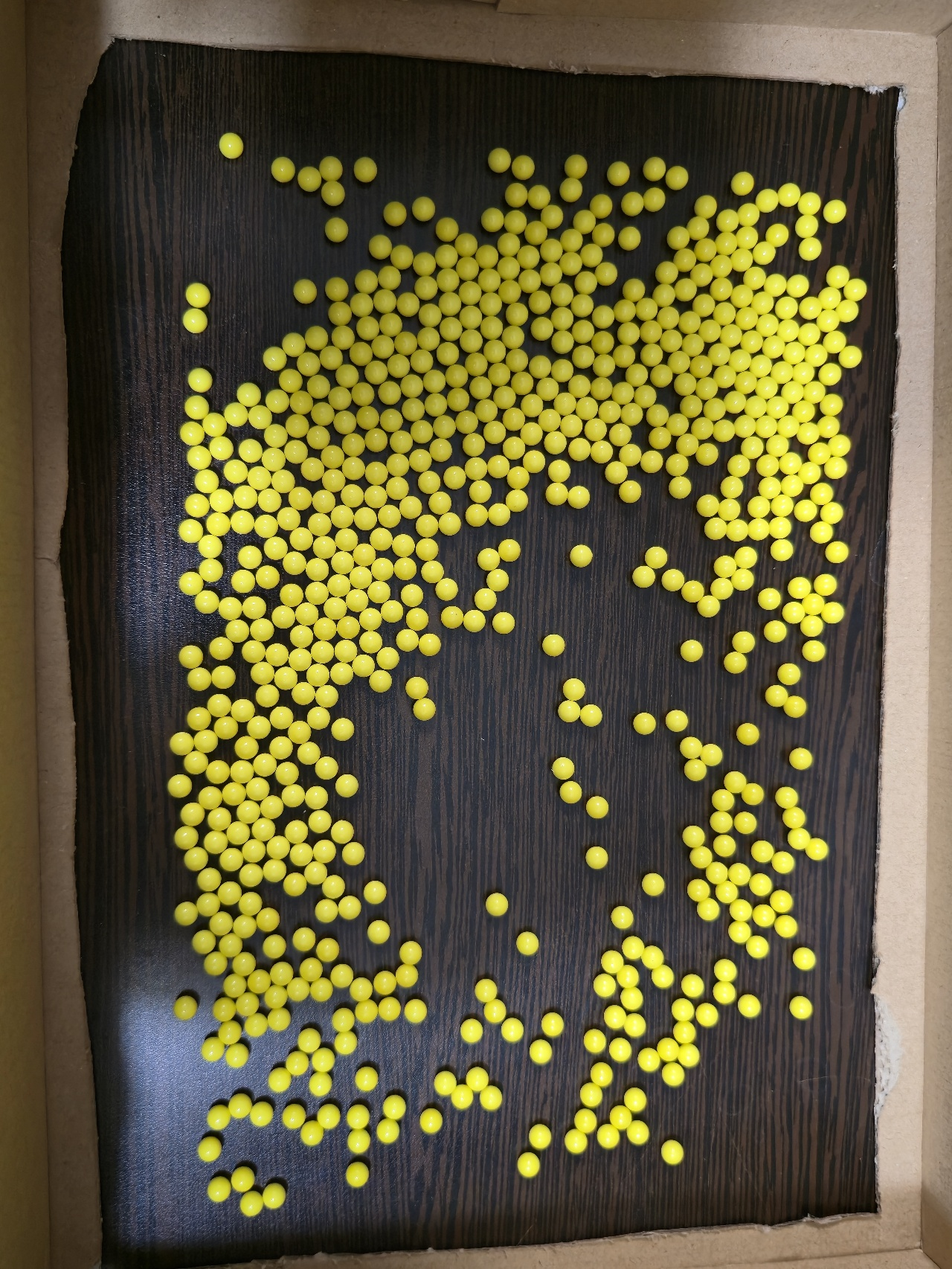yellow_bead: (190, 499, 205, 512), (184, 577, 198, 590), (243, 551, 257, 564), (185, 524, 198, 538), (190, 401, 204, 414), (191, 289, 205, 302), (203, 873, 216, 886), (225, 853, 238, 866), (232, 826, 245, 839), (310, 791, 323, 804), (237, 575, 250, 588), (204, 540, 217, 553), (236, 515, 249, 528), (263, 494, 276, 507), (200, 475, 213, 488), (229, 465, 242, 478), (267, 453, 280, 466), (523, 1157, 535, 1171), (534, 1130, 546, 1144), (485, 1091, 497, 1105), (547, 1018, 559, 1032), (223, 887, 237, 899), (199, 735, 213, 747), (666, 1146, 678, 1159), (602, 1130, 614, 1143), (388, 1101, 400, 1114), (629, 1093, 641, 1106), (535, 1045, 547, 1058), (303, 1034, 315, 1047), (506, 1024, 518, 1037), (628, 1019, 640, 1032), (338, 1014, 350, 1027), (410, 1005, 422, 1018), (795, 1001, 807, 1014), (743, 1000, 756, 1012), (599, 979, 611, 992), (336, 969, 348, 982), (751, 941, 764, 953), (268, 940, 280, 953), (373, 925, 385, 938), (215, 917, 227, 930), (190, 852, 202, 865), (295, 849, 308, 861), (347, 847, 359, 860), (248, 844, 260, 857), (272, 841, 285, 853), (180, 832, 193, 844), (251, 783, 264, 795), (275, 742, 288, 754), (213, 699, 226, 711), (316, 646, 329, 658), (295, 631, 308, 643), (248, 602, 261, 614), (200, 596, 213, 608), (295, 533, 308, 545), (260, 520, 272, 533), (215, 495, 228, 507), (239, 491, 251, 504), (253, 472, 266, 484), (306, 463, 319, 475), (193, 452, 206, 464), (215, 442, 228, 454), (771, 440, 784, 452), (269, 430, 282, 442), (186, 427, 198, 440), (230, 408, 242, 421), (762, 194, 774, 207), (632, 1126, 643, 1140), (440, 1076, 451, 1090), (472, 1073, 483, 1087), (615, 1043, 626, 1057), (466, 1024, 477, 1038), (570, 1135, 582, 1147), (251, 1020, 263, 1032), (677, 1003, 689, 1015), (687, 980, 699, 992), (657, 971, 669, 983), (799, 953, 811, 965), (225, 939, 237, 951), (245, 897, 257, 909), (327, 881, 339, 893), (310, 867, 322, 879), (318, 845, 330, 857), (291, 826, 303, 838), (314, 815, 326, 827), (187, 808, 199, 820), (236, 765, 248, 777), (259, 759, 271, 771), (312, 712, 324, 724), (271, 649, 283, 661), (340, 645, 352, 657), (256, 624, 268, 636), (261, 571, 273, 583), (312, 564, 324, 576), (776, 544, 788, 556), (314, 518, 326, 530), (212, 518, 224, 530), (318, 495, 330, 507), (294, 492, 306, 504), (277, 475, 289, 487), (245, 445, 257, 457), (254, 411, 266, 423), (271, 395, 283, 407), (303, 358, 315, 370), (844, 351, 856, 363), (288, 339, 300, 351), (829, 336, 841, 348), (804, 243, 816, 255), (801, 220, 813, 232), (783, 189, 795, 201), (610, 1011, 621, 1024), (481, 984, 492, 997), (719, 965, 732, 976), (617, 911, 628, 924), (268, 865, 281, 876), (777, 857, 790, 868), (204, 791, 215, 804), (176, 737, 187, 750), (261, 690, 274, 701), (335, 668, 348, 679), (224, 603, 237, 614), (205, 565, 218, 576), (268, 353, 281, 364), (780, 302, 793, 313), (829, 205, 840, 218), (173, 780, 187, 790), (269, 544, 283, 554), (457, 1092, 468, 1104), (585, 1090, 597, 1101), (668, 1069, 679, 1081), (317, 1056, 329, 1067), (702, 1009, 713, 1021), (356, 983, 367, 995), (229, 980, 240, 992), (276, 968, 288, 979), (607, 956, 618, 968), (647, 951, 658, 963), (405, 947, 416, 959), (628, 942, 639, 954), (522, 937, 533, 949), (199, 936, 210, 948), (344, 902, 356, 913), (755, 879, 767, 890), (648, 878, 659, 890), (245, 870, 257, 881), (591, 852, 602, 864), (210, 837, 222, 848), (336, 826, 347, 838), (781, 792, 793, 803), (341, 780, 353, 791), (281, 768, 292, 780), (558, 762, 569, 774), (321, 762, 332, 774), (303, 748, 315, 759), (686, 742, 697, 754), (337, 724, 349, 735), (237, 704, 249, 715), (375, 675, 387, 686), (312, 669, 324, 680), (257, 667, 269, 678), (358, 660, 370, 671), (294, 654, 306, 665), (382, 652, 393, 664), (788, 607, 800, 618), (329, 603, 341, 614), (764, 594, 776, 605), (794, 582, 806, 593), (333, 579, 345, 590), (667, 574, 679, 585), (376, 563, 388, 574), (289, 557, 300, 569), (483, 553, 495, 564), (740, 552, 752, 563), (576, 550, 587, 562), (318, 542, 330, 553), (341, 534, 353, 545), (816, 527, 828, 538), (421, 520, 433, 531), (359, 513, 371, 524), (283, 513, 295, 524), (336, 511, 348, 522), (826, 507, 838, 518), (800, 505, 812, 516), (753, 501, 765, 512), (435, 497, 446, 509), (370, 491, 382, 502), (347, 489, 358, 501), (391, 482, 403, 493), (328, 475, 340, 486), (370, 467, 382, 478), (347, 463, 359, 474), (762, 460, 774, 471), (392, 459, 404, 470), (290, 446, 302, 457), (834, 440, 846, 451), (469, 439, 480, 451), (550, 437, 561, 449), (312, 431, 324, 442), (526, 428, 537, 440), (730, 396, 741, 408), (824, 369, 836, 380), (823, 315, 834, 327), (842, 305, 853, 317), (805, 302, 816, 314), (849, 284, 861, 295), (832, 271, 844, 282), (803, 198, 815, 209), (293, 983, 303, 996), (370, 886, 380, 899), (287, 790, 300, 800), (253, 722, 266, 732), (217, 671, 230, 681), (245, 388, 255, 401), (197, 373, 207, 386), (274, 1076, 285, 1087), (643, 1056, 654, 1067), (274, 1015, 285, 1026), (306, 963, 317, 974), (782, 922, 793, 933), (239, 922, 250, 933), (703, 905, 714, 916), (321, 905, 332, 916), (202, 899, 213, 910), (492, 899, 503, 910), (757, 846, 768, 857), (719, 840, 730, 851), (565, 786, 576, 797), (639, 718, 650, 729), (321, 690, 332, 701), (739, 637, 750, 648), (402, 634, 413, 645), (771, 626, 782, 637), (498, 617, 509, 628), (469, 615, 480, 626), (738, 574, 749, 585), (638, 571, 649, 582), (427, 566, 438, 577), (832, 547, 843, 558), (710, 523, 721, 534), (384, 510, 395, 521), (405, 501, 416, 512), (777, 500, 788, 511), (475, 486, 486, 497), (765, 482, 776, 493), (675, 482, 686, 493), (611, 467, 622, 478), (471, 463, 482, 474), (415, 454, 426, 465), (625, 449, 636, 460), (597, 446, 608, 457), (747, 442, 758, 453), (615, 429, 626, 440), (803, 428, 814, 439), (798, 406, 809, 417), (431, 399, 442, 410), (787, 387, 798, 398), (574, 380, 585, 391), (798, 367, 809, 378), (777, 367, 788, 378), (417, 355, 428, 366), (326, 352, 337, 363), (763, 319, 774, 330), (466, 311, 477, 322), (323, 1112, 333, 1124), (362, 1073, 372, 1085), (232, 1050, 242, 1062), (238, 958, 250, 968), (298, 933, 310, 943), (734, 928, 746, 938), (721, 888, 733, 898), (794, 834, 806, 844), (688, 831, 700, 841), (266, 801, 278, 811), (795, 754, 807, 764), (294, 726, 306, 736), (184, 651, 196, 661), (808, 646, 820, 656), (686, 646, 698, 656), (248, 646, 260, 656), (231, 625, 243, 635), (386, 605, 398, 615), (406, 590, 418, 600), (373, 586, 385, 596), (820, 579, 832, 589), (355, 572, 367, 582), (445, 518, 455, 530), (726, 482, 738, 492), (425, 476, 435, 488), (553, 466, 565, 476), (734, 460, 744, 472), (494, 460, 504, 472), (575, 443, 585, 455), (396, 436, 408, 446), (491, 426, 501, 438), (418, 425, 428, 437), (544, 414, 556, 424), (528, 399, 538, 411), (769, 341, 779, 353), (793, 280, 803, 292), (257, 826, 270, 835), (193, 314, 202, 327), (204, 1147, 215, 1157), (354, 1112, 364, 1123), (736, 906, 747, 916), (735, 869, 745, 880), (712, 867, 722, 878), (696, 852, 707, 862), (812, 845, 823, 855), (716, 817, 727, 827), (718, 795, 729, 805), (731, 777, 741, 788), (212, 765, 223, 775), (690, 765, 701, 775), (672, 716, 683, 726), (586, 710, 596, 721), (564, 706, 575, 716), (419, 704, 430, 714), (569, 684, 579, 695), (412, 682, 422, 693), (548, 640, 559, 650), (704, 601, 715, 611), (286, 589, 297, 599), (441, 584, 452, 594), (717, 583, 727, 594), (652, 552, 662, 563), (359, 549, 370, 559), (398, 540, 409, 550), (733, 525, 743, 536), (754, 524, 764, 535), (776, 522, 786, 533), (495, 509, 505, 520), (725, 504, 735, 515), (704, 500, 714, 511), (449, 472, 460, 482), (805, 468, 816, 478), (646, 456, 657, 466), (435, 444, 446, 454), (823, 422, 834, 432), (762, 421, 772, 432), (740, 421, 750, 432), (567, 420, 577, 431), (605, 406, 615, 417), (408, 404, 419, 414), (583, 402, 593, 413), (343, 370, 353, 381), (558, 365, 568, 376), (757, 360, 767, 371), (790, 347, 800, 358), (784, 325, 794, 336), (300, 286, 310, 297), (771, 280, 781, 291), (750, 272, 760, 283), (738, 178, 748, 189), (304, 174, 315, 184), (268, 1190, 280, 1199), (181, 1003, 190, 1015), (718, 989, 730, 998), (625, 971, 634, 983), (213, 813, 225, 822), (242, 809, 254, 818), (190, 756, 202, 765), (280, 675, 292, 684), (216, 643, 228, 652), (365, 637, 377, 646), (277, 614, 289, 623), (291, 421, 303, 430), (373, 366, 382, 378), (393, 361, 405, 370), (593, 1035, 601, 1048), (275, 716, 288, 724), (193, 673, 206, 681), (300, 611, 313, 619), (292, 1060, 302, 1070), (778, 896, 788, 906), (707, 750, 717, 760), (785, 669, 795, 679), (808, 621, 818, 631), (829, 608, 839, 618), (721, 561, 731, 571), (552, 488, 562, 498), (788, 481, 798, 491), (591, 424, 601, 434), (784, 421, 794, 431), (440, 421, 450, 431), (752, 402, 762, 412), (560, 398, 570, 408), (335, 393, 345, 403), (810, 387, 820, 397), (543, 383, 553, 393), (681, 379, 691, 389), (736, 355, 746, 365), (444, 349, 454, 359), (312, 333, 322, 343), (339, 332, 349, 342), (426, 310, 436, 320), (357, 299, 367, 309), (446, 298, 456, 308), (743, 232, 753, 242), (723, 215, 733, 225), (744, 209, 754, 219), (686, 1051, 695, 1062), (626, 995, 637, 1004), (402, 971, 413, 980), (181, 907, 192, 916), (290, 878, 301, 887), (592, 802, 603, 811), (773, 690, 782, 701), (365, 614, 376, 623), (422, 544, 433, 553), (376, 533, 387, 542), (512, 495, 523, 504), (672, 460, 683, 469), (529, 456, 540, 465), (509, 443, 520, 452), (721, 425, 730, 436), (341, 417, 350, 428), (628, 408, 637, 419), (826, 399, 837, 408), (763, 382, 772, 393), (408, 380, 417, 391), (487, 298, 496, 309), (423, 282, 432, 293), (277, 164, 288, 173), (315, 1079, 327, 1087), (739, 254, 747, 266), (242, 1000, 251, 1010), (210, 958, 220, 967), (695, 884, 704, 894), (321, 623, 330, 633), (447, 611, 457, 620), (817, 448, 826, 458), (501, 392, 510, 402), (387, 388, 396, 398), (431, 376, 440, 386), (536, 362, 546, 371), (805, 329, 814, 339), (665, 312, 674, 322), (599, 312, 609, 321), (759, 298, 768, 308), (443, 251, 452, 261), (702, 201, 711, 211), (493, 1006, 501, 1017), (242, 742, 253, 750), (298, 687, 309, 695), (731, 658, 742, 666), (480, 597, 491, 605), (400, 563, 411, 571), (472, 510, 483, 518), (327, 451, 338, 459), (321, 408, 329, 419), (722, 371, 730, 382), (728, 330, 736, 341), (739, 290, 747, 301), (330, 187, 338, 198), (337, 561, 349, 568), (427, 332, 434, 344), (386, 1003, 395, 1012), (264, 913, 273, 922), (810, 599, 819, 608), (627, 486, 636, 495), (675, 419, 684, 428), (286, 375, 295, 384), (509, 332, 518, 341), (579, 301, 588, 310), (405, 299, 414, 308), (695, 222, 704, 231), (228, 144, 237, 153), (324, 944, 332, 954), (762, 912, 770, 922), (792, 813, 800, 823), (221, 722, 231, 730), (505, 544, 515, 552), (655, 410, 663, 420), (713, 404, 721, 414), (643, 391, 651, 401), (705, 383, 713, 393), (316, 381, 324, 391), (716, 349, 724, 359), (493, 345, 501, 355), (469, 335, 477, 345), (626, 328, 634, 338), (540, 323, 548, 333), (583, 277, 591, 287), (385, 274, 395, 282), (676, 232, 684, 242), (585, 1115, 591, 1128), (311, 591, 324, 597), (228, 788, 239, 795), (513, 472, 524, 479), (390, 414, 397, 425), (382, 341, 389, 352), (691, 339, 698, 350), (750, 336, 757, 347), (700, 269, 707, 280), (776, 229, 783, 240), (319, 984, 327, 993), (492, 579, 504, 585), (684, 439, 693, 447), (484, 405, 492, 414), (620, 388, 628, 397), (448, 324, 457, 332), (490, 323, 498, 332), (382, 296, 390, 305), (364, 277, 372, 286), (583, 216, 591, 225), (327, 165, 336, 173), (652, 164, 660, 173), (273, 992, 280, 1002), (425, 639, 435, 646), (344, 622, 354, 629), (691, 586, 698, 596), (701, 423, 708, 433), (479, 382, 486, 392), (744, 377, 751, 387), (723, 308, 730, 318), (645, 303, 652, 313), (662, 290, 669, 300), (684, 284, 691, 294), (447, 274, 454, 284), (550, 245, 557, 255), (653, 194, 660, 204), (208, 418, 219, 424), (678, 356, 684, 367), (583, 351, 589, 362), (562, 336, 568, 347), (671, 335, 677, 346), (709, 325, 715, 336), (602, 362, 610, 370), (515, 310, 523, 318), (744, 817, 751, 826), (375, 434, 382, 443), (600, 383, 607, 392), (660, 370, 667, 379), (636, 370, 643, 379), (527, 277, 536, 284), (590, 251, 597, 260), (378, 242, 385, 251), (628, 233, 635, 242), (676, 173, 683, 182), (498, 155, 505, 164), (342, 1039, 352, 1045), (351, 599, 363, 604), (466, 417, 472, 427), (562, 313, 568, 323), (561, 289, 567, 299), (550, 269, 556, 279), (308, 1133, 316, 1140), (794, 701, 801, 709), (414, 614, 422, 621), (706, 449, 713, 457), (351, 440, 358, 448), (582, 327, 589, 335), (366, 324, 373, 332), (688, 318, 695, 326), (469, 290, 476, 298), (488, 276, 495, 284), (665, 268, 672, 276), (401, 252, 408, 260), (617, 168, 624, 176), (824, 292, 835, 297), (517, 355, 523, 364), (651, 350, 657, 359), (390, 321, 396, 330), (704, 300, 710, 309), (605, 268, 611, 277), (684, 254, 690, 263), (509, 239, 515, 248), (335, 225, 341, 234), (515, 414, 520, 424), (571, 258, 576, 268), (650, 328, 657, 335), (745, 315, 752, 322), (508, 265, 515, 272), (422, 260, 429, 267), (725, 239, 732, 246), (491, 215, 498, 222), (457, 371, 463, 379), (405, 339, 411, 347), (721, 262, 727, 270), (515, 217, 521, 225), (551, 211, 557, 219), (422, 205, 428, 213), (538, 192, 544, 200), (570, 184, 576, 192), (384, 977, 389, 986), (633, 199, 638, 208), (817, 488, 828, 492), (685, 1031, 691, 1038), (748, 729, 754, 736), (578, 496, 585, 502), (660, 433, 666, 440), (691, 402, 697, 409), (298, 400, 305, 406), (362, 389, 368, 396), (522, 379, 528, 386), (499, 370, 505, 377), (634, 286, 640, 293), (669, 1045, 673, 1055), (572, 236, 577, 244), (358, 1137, 364, 1143), (431, 1119, 437, 1125), (364, 1009, 370, 1015), (338, 310, 344, 316), (528, 254, 534, 260), (466, 241, 472, 247), (364, 167, 370, 173), (356, 1174, 363, 1179), (754, 789, 759, 796), (625, 352, 630, 359), (625, 307, 630, 314), (722, 285, 727, 292), (524, 163, 529, 170), (541, 298, 545, 306), (234, 1101, 240, 1106), (207, 1044, 213, 1049), (459, 397, 464, 403), (361, 350, 366, 356), (488, 253, 493, 259), (478, 360, 482, 367), (335, 286, 342, 290), (518, 190, 522, 197), (576, 162, 581, 167), (390, 1128, 394, 1134), (599, 1073, 603, 1079), (834, 463, 842, 466), (369, 414, 373, 420), (703, 364, 707, 370), (511, 289, 515, 295), (469, 267, 473, 272), (213, 1186, 219, 1189), (815, 350, 821, 353), (708, 247, 711, 253), (449, 225, 452, 231), (264, 1113, 268, 1117), (260, 978, 262, 986), (395, 212, 399, 216), (254, 1202, 257, 1206), (623, 1117, 626, 1121), (573, 495, 577, 498), (605, 233, 608, 237), (603, 203, 606, 207), (789, 457, 794, 459), (256, 1111, 259, 1114), (773, 402, 776, 405), (605, 341, 608, 344), (759, 248, 762, 251), (538, 231, 541, 234), (829, 467, 831, 471), (228, 138, 232, 140), (213, 1114, 215, 1117), (223, 1009, 225, 1012), (242, 1104, 244, 1106), (794, 459, 796, 460), (763, 247, 765, 248), (200, 721, 201, 722), (244, 390, 245, 391), (226, 140, 227, 141), (388, 1128, 389, 1128), (782, 403, 782, 404), (776, 402, 779, 402)
